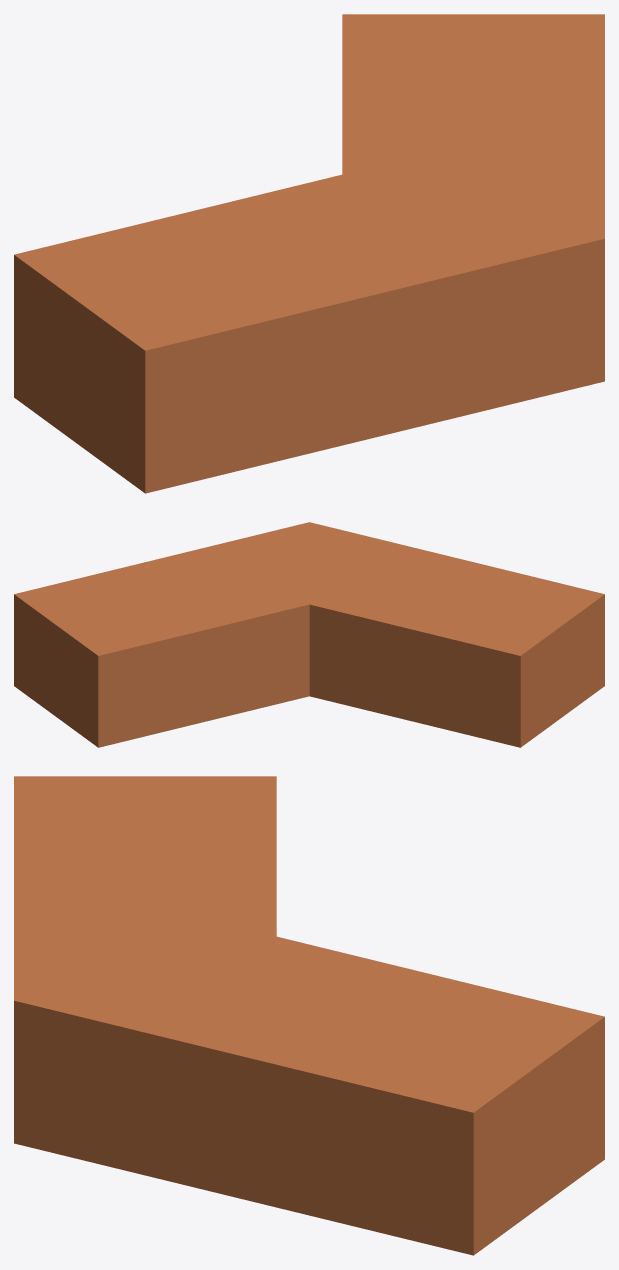
Rendered from 1wall1.glb.
3 views of the same model, one above another, from view 1: azimuth 30°, elevation 25°; view 2: azimuth 150°, elevation 25°; view 3: azimuth 270°, elevation 25° (orthographic). The views are drawn at different scales.
Visible parts, largest first — view 1: Cliff3-col; view 2: Cliff3-col; view 3: Cliff3-col.
Part boxes in pixels (bbox=[...]): Cliff3-col: bbox=[14, 14, 604, 493]; Cliff3-col: bbox=[14, 522, 604, 747]; Cliff3-col: bbox=[14, 776, 604, 1255].
Bounding box in the file's own units: 1.52 × 0.3 × 1.12.
1 material, 1 textured.
